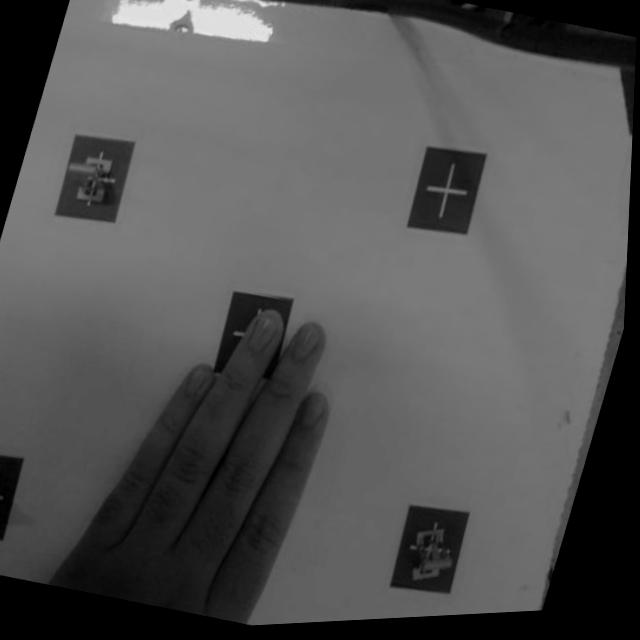pick1: (54, 130, 138, 227)
pick4: (0, 445, 26, 544)
pick5: (386, 495, 475, 604)
